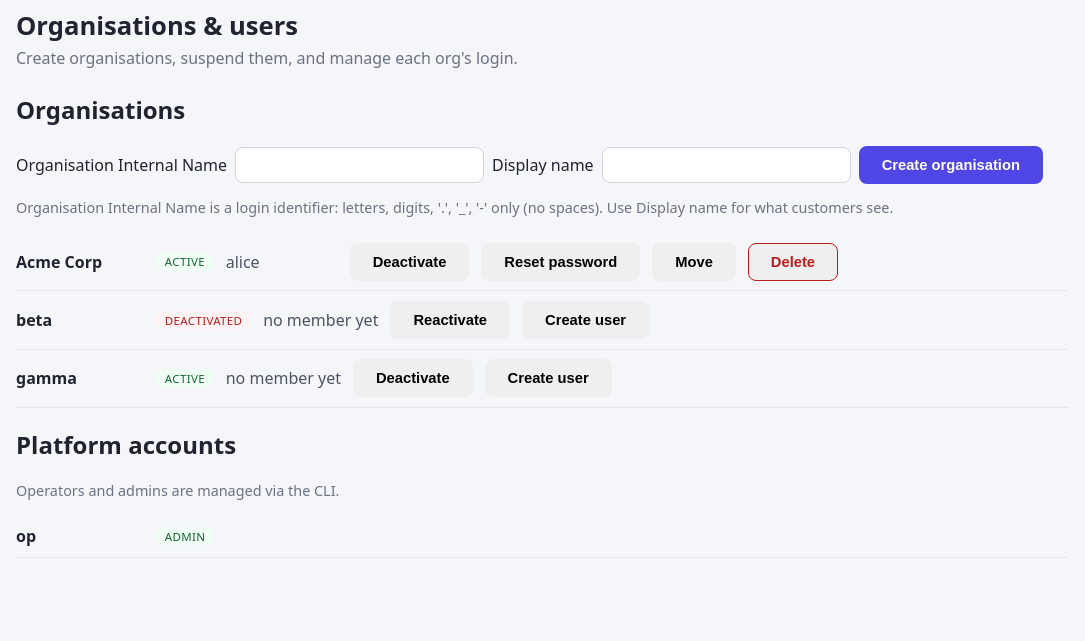
Test: AccountsPage › only shows one org's create-user form at a time
The width and height of the screenshot is (1085, 641).
Expected: the text "Acme Corp" is shown, [16, 251, 102, 273]
Click the button with aria-label "create user for beta".
click(586, 320)  # box [522, 301, 649, 339]
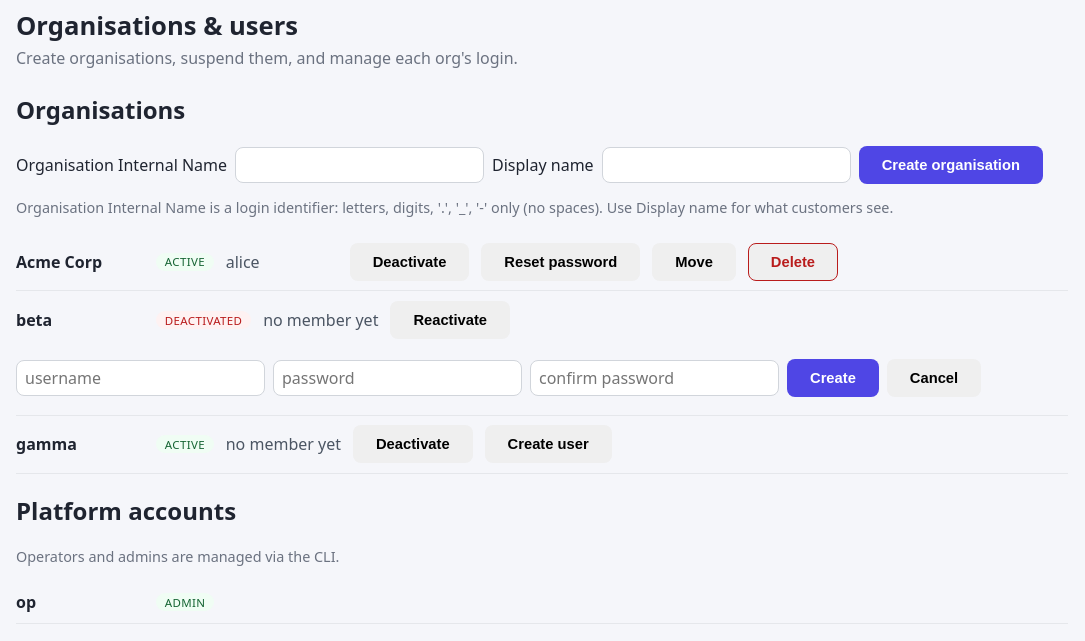
Expected: the field named "Username for beta" is shown, [16, 360, 265, 396]
Click the button with aria-label "create user for gamma".
click(548, 444)  # box [485, 425, 612, 463]
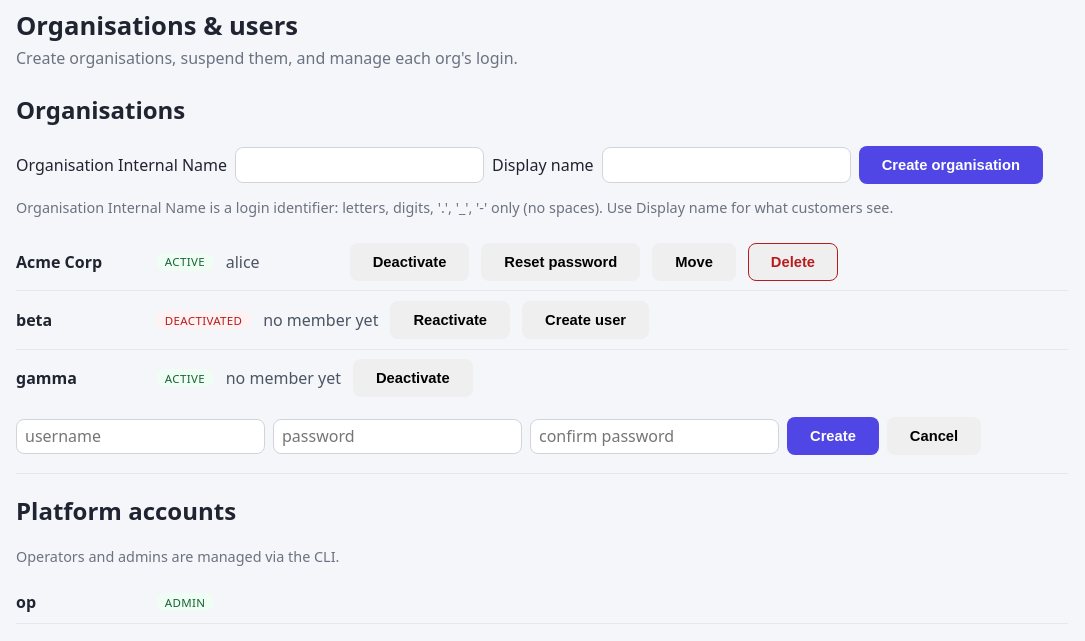
Expected: the field named "Username for gamma" is shown, [16, 419, 265, 454]
